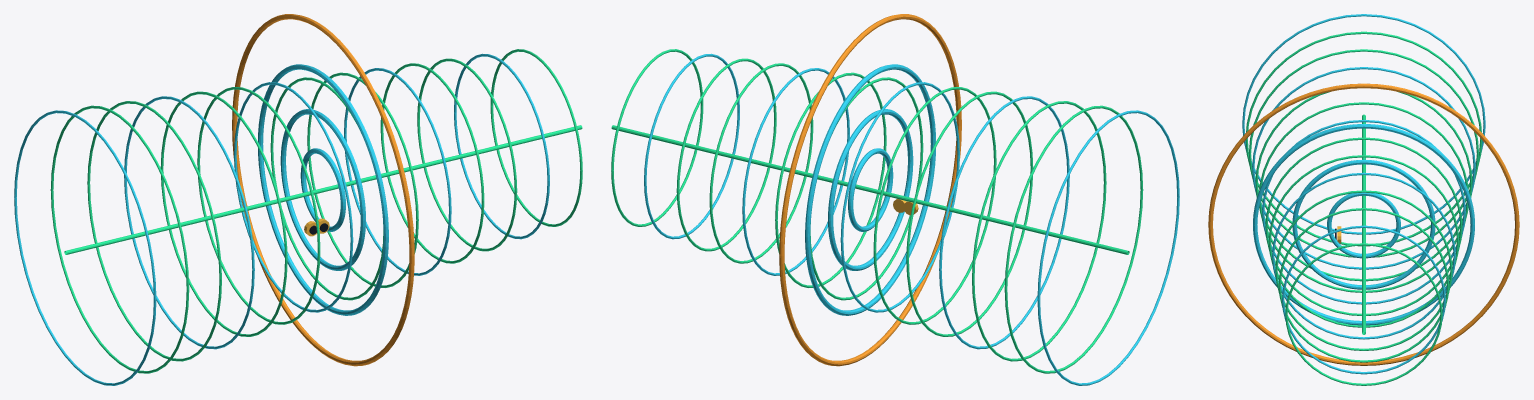
File: 13_L85_ThreeDimensionalApproachCorridorHologram.fbx
The picture shows the model from 3 angles, left to right: view 1: azimuth 30°, elevation 25°; view 2: azimuth 150°, elevation 25°; view 3: azimuth 270°, elevation 25°; orthographic projection. The views are drawn at different scales.
Parts seen in each view (by area): view 1: L85_ThreeDimensionalApproachCorridorHolo_Part_0002, L85_ThreeDimensionalApproachCorridorHolo_Part_0000, L85_ThreeDimensionalApproachCorridorHolo_Part_0001; view 2: L85_ThreeDimensionalApproachCorridorHolo_Part_0002, L85_ThreeDimensionalApproachCorridorHolo_Part_0000, L85_ThreeDimensionalApproachCorridorHolo_Part_0001; view 3: L85_ThreeDimensionalApproachCorridorHolo_Part_0002, L85_ThreeDimensionalApproachCorridorHolo_Part_0000, L85_ThreeDimensionalApproachCorridorHolo_Part_0001.
Boxes of the visible parts, x1,y1,x2,y2 form: L85_ThreeDimensionalApproachCorridorHolo_Part_0002: [50, 49, 582, 373]; L85_ThreeDimensionalApproachCorridorHolo_Part_0000: [14, 53, 549, 385]; L85_ThreeDimensionalApproachCorridorHolo_Part_0001: [232, 14, 414, 366]; L85_ThreeDimensionalApproachCorridorHolo_Part_0002: [611, 49, 1143, 373]; L85_ThreeDimensionalApproachCorridorHolo_Part_0000: [644, 53, 1179, 385]; L85_ThreeDimensionalApproachCorridorHolo_Part_0001: [779, 14, 961, 366]; L85_ThreeDimensionalApproachCorridorHolo_Part_0002: [1245, 31, 1482, 385]; L85_ThreeDimensionalApproachCorridorHolo_Part_0000: [1242, 14, 1485, 374]; L85_ThreeDimensionalApproachCorridorHolo_Part_0001: [1208, 83, 1519, 365].
Size of the model in its own units: 520 by 315 by 315.
